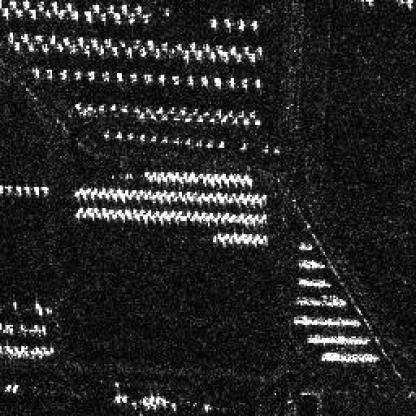airplane: (83, 42, 93, 56), (47, 31, 59, 42), (252, 76, 262, 88), (236, 18, 245, 31), (239, 76, 247, 90), (113, 70, 124, 80), (125, 44, 135, 55), (28, 41, 38, 52), (245, 52, 255, 62), (40, 42, 50, 52), (20, 32, 30, 42), (106, 3, 116, 13), (101, 68, 109, 80), (86, 68, 94, 80), (154, 45, 162, 57), (146, 37, 154, 49), (76, 34, 84, 46), (6, 30, 14, 42), (110, 44, 119, 54), (249, 20, 258, 30), (91, 3, 101, 12), (27, 8, 36, 18), (226, 75, 234, 86), (58, 67, 66, 78), (44, 67, 52, 78), (31, 65, 39, 76), (91, 36, 99, 47), (13, 39, 21, 50), (210, 18, 218, 29), (50, 0, 58, 11), (99, 42, 106, 54), (5, 184, 15, 192), (73, 102, 83, 110), (200, 73, 208, 83), (187, 73, 195, 83), (170, 73, 178, 83), (141, 72, 151, 80), (73, 68, 81, 78), (254, 46, 262, 56), (214, 44, 222, 54), (140, 46, 148, 56), (134, 37, 142, 47), (68, 42, 76, 52), (62, 34, 70, 44), (83, 10, 91, 20), (70, 10, 80, 18), (55, 10, 65, 18), (0, 8, 10, 16), (42, 306, 52, 314), (118, 39, 127, 47), (120, 3, 128, 12), (3, 384, 12, 392), (12, 384, 20, 393), (16, 184, 23, 194), (216, 141, 226, 148), (212, 74, 219, 84), (229, 46, 236, 56), (141, 13, 148, 23), (13, 8, 23, 15), (11, 299, 18, 309), (84, 106, 95, 112), (32, 186, 40, 194), (40, 184, 48, 192), (102, 130, 110, 138), (114, 130, 122, 138), (125, 132, 133, 140), (195, 138, 203, 146), (120, 104, 128, 112), (158, 72, 166, 80), (128, 72, 136, 80), (202, 44, 210, 52), (104, 38, 112, 46), (112, 12, 120, 20), (99, 12, 107, 20), (21, 0, 29, 8), (8, 0, 16, 8), (112, 395, 120, 403), (136, 112, 145, 119), (56, 42, 63, 51), (249, 109, 255, 119), (234, 52, 240, 62), (221, 50, 227, 60), (208, 50, 214, 60), (189, 42, 195, 52), (223, 18, 229, 28), (141, 213, 148, 221), (255, 216, 263, 223), (242, 237, 250, 244), (198, 190, 205, 198), (146, 174, 153, 182), (24, 184, 31, 192), (138, 134, 145, 142), (184, 138, 192, 145), (231, 115, 239, 122), (177, 107, 185, 114), (240, 46, 248, 53), (34, 34, 42, 41), (134, 3, 142, 10), (37, 0, 44, 8), (202, 193, 208, 202), (65, 1, 71, 10), (120, 393, 125, 403), (138, 206, 145, 213), (229, 211, 236, 218), (237, 211, 244, 218), (233, 216, 240, 223), (164, 193, 171, 200), (245, 193, 252, 200), (190, 107, 197, 114), (78, 205, 84, 213), (84, 205, 90, 213), (80, 190, 86, 198), (256, 196, 262, 204), (150, 135, 158, 141), (161, 137, 169, 143), (172, 137, 180, 143), (272, 145, 280, 151), (240, 117, 248, 123), (226, 109, 232, 117), (161, 114, 169, 120), (156, 106, 164, 112), (148, 114, 156, 120), (145, 106, 151, 114), (109, 104, 115, 112), (98, 106, 106, 112), (195, 49, 201, 57), (182, 52, 188, 60), (174, 44, 182, 50), (127, 15, 135, 21), (36, 306, 42, 314), (177, 188, 182, 197), (211, 193, 216, 202), (221, 115, 226, 124), (75, 212, 81, 219), (111, 211, 117, 218), (125, 213, 132, 219), (203, 214, 210, 220), (214, 212, 220, 219), (223, 211, 229, 218), (226, 216, 232, 223), (241, 216, 247, 223), (244, 211, 250, 218), (252, 211, 258, 218), (260, 212, 266, 219), (223, 232, 230, 238), (232, 232, 238, 239), (236, 237, 242, 244), (258, 237, 264, 244), (73, 189, 80, 195), (86, 192, 93, 198), (92, 185, 98, 192), (156, 193, 162, 200), (180, 193, 186, 200), (184, 190, 190, 197), (195, 193, 201, 200), (206, 190, 212, 197), (221, 190, 227, 197), (185, 176, 192, 182), (204, 172, 210, 179), (215, 177, 221, 184), (223, 177, 229, 184), (205, 141, 211, 148), (239, 141, 245, 148), (238, 109, 245, 115), (169, 107, 175, 114), (94, 210, 99, 218), (171, 210, 176, 218), (145, 187, 150, 195), (151, 170, 156, 178), (174, 170, 179, 178), (182, 169, 187, 177), (247, 177, 252, 185), (202, 110, 210, 115), (184, 116, 194, 120), (132, 107, 140, 112), (46, 8, 51, 16), (119, 213, 125, 219), (153, 210, 159, 216), (161, 210, 167, 216), (180, 213, 186, 219), (184, 210, 190, 216), (241, 232, 247, 238), (96, 192, 102, 198), (117, 192, 123, 198), (122, 189, 128, 195), (137, 187, 143, 193), (161, 189, 167, 195), (187, 195, 193, 201), (241, 197, 247, 203), (248, 197, 254, 203), (154, 176, 160, 182), (166, 171, 172, 177), (189, 171, 195, 177), (254, 119, 260, 125), (215, 111, 221, 117), (80, 109, 86, 115), (33, 301, 39, 307), (115, 208, 122, 213), (135, 212, 140, 219), (250, 218, 257, 223), (247, 233, 252, 240), (252, 237, 257, 244), (76, 185, 83, 190), (99, 185, 104, 192), (107, 185, 112, 192), (198, 172, 203, 179), (213, 172, 218, 179), (242, 174, 249, 179), (150, 213, 154, 221), (166, 214, 170, 222), (202, 176, 206, 184), (172, 116, 180, 120), (102, 210, 107, 216), (146, 208, 151, 214), (156, 215, 161, 221), (177, 210, 182, 216), (174, 215, 179, 221), (188, 213, 193, 219), (206, 211, 212, 216), (218, 216, 224, 221), (211, 236, 216, 242), (216, 232, 221, 238), (219, 236, 224, 242), (255, 232, 260, 238), (262, 234, 268, 239), (127, 192, 132, 198), (130, 188, 136, 193), (154, 188, 160, 193), (218, 195, 224, 200), (228, 195, 233, 201), (159, 171, 164, 177), (171, 176, 176, 182), (232, 177, 238, 182), (262, 145, 268, 150), (208, 117, 214, 122), (197, 117, 203, 122), (132, 206, 136, 213), (216, 190, 220, 197), (254, 193, 258, 200), (262, 193, 266, 200), (109, 208, 114, 213), (200, 211, 205, 216), (211, 216, 216, 221), (229, 235, 234, 240), (169, 190, 174, 195), (172, 195, 177, 200), (234, 197, 239, 202), (143, 171, 148, 176), (221, 172, 226, 177), (229, 172, 234, 177), (235, 174, 240, 179), (239, 177, 244, 182), (88, 210, 92, 216), (92, 205, 96, 211), (192, 210, 196, 216), (116, 187, 120, 193), (148, 194, 154, 198), (230, 192, 236, 196), (194, 176, 198, 182), (101, 206, 104, 213), (135, 193, 138, 200), (209, 177, 212, 184), (124, 208, 128, 213), (110, 192, 115, 196), (192, 190, 196, 195), (239, 192, 244, 196), (162, 176, 167, 180), (196, 215, 199, 221), (104, 192, 107, 198), (179, 176, 182, 182), (142, 194, 146, 198), (84, 187, 87, 192), (82, 210, 84, 216)
